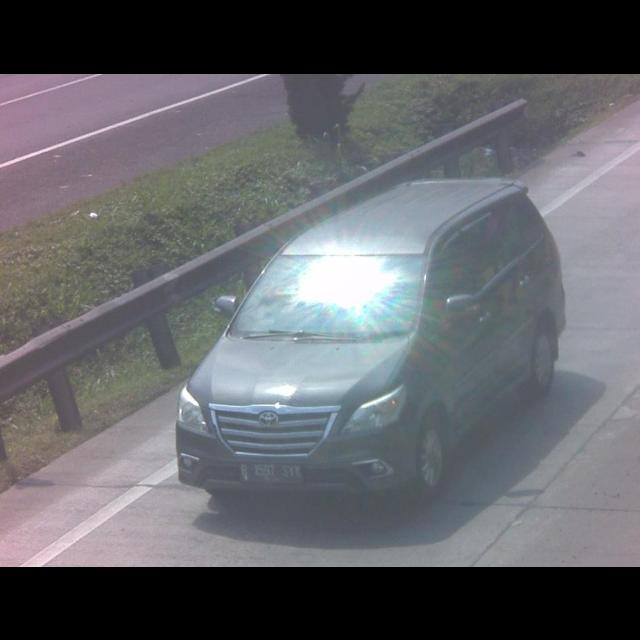plate: (235, 461, 302, 483)
